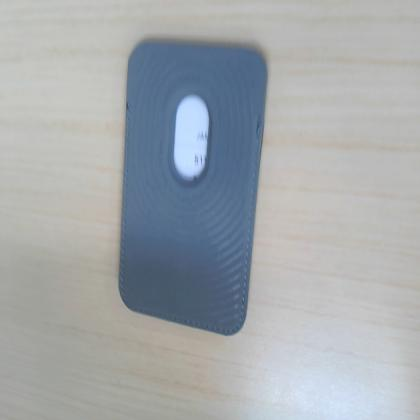pics: (119, 40, 266, 334)
